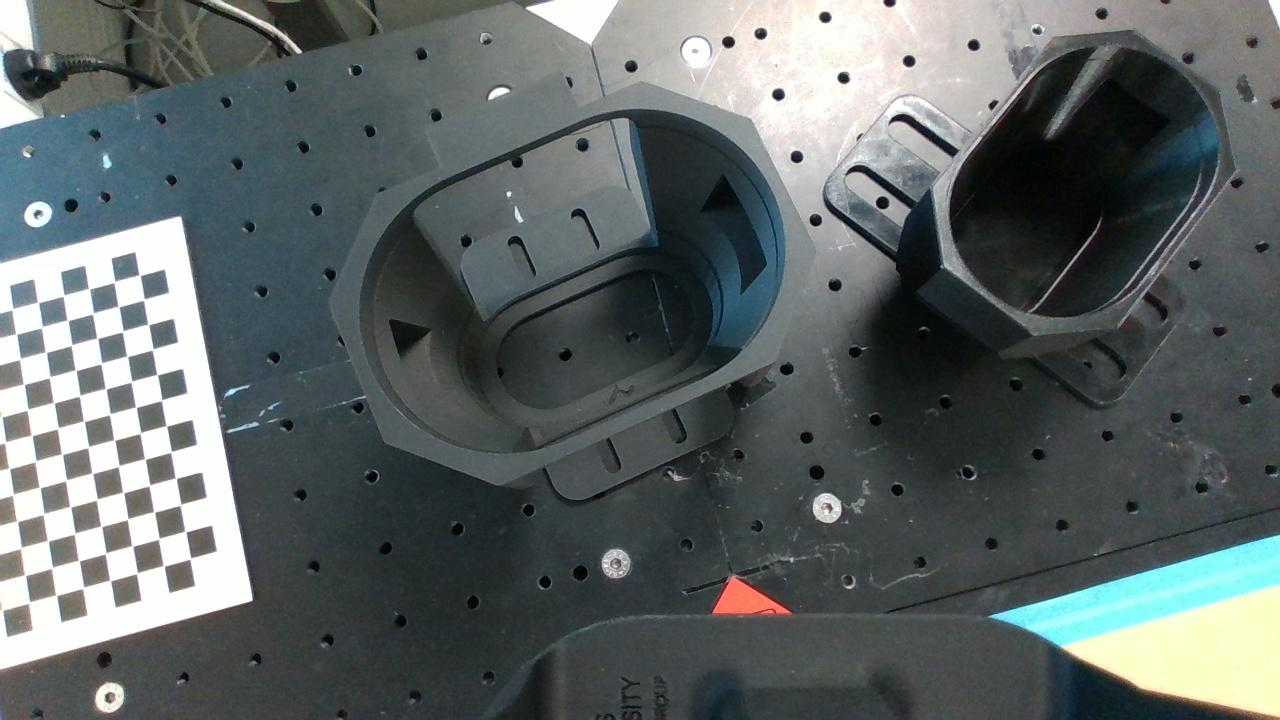big_interface: (327, 81, 818, 487)
small_interface: (930, 28, 1241, 337)
